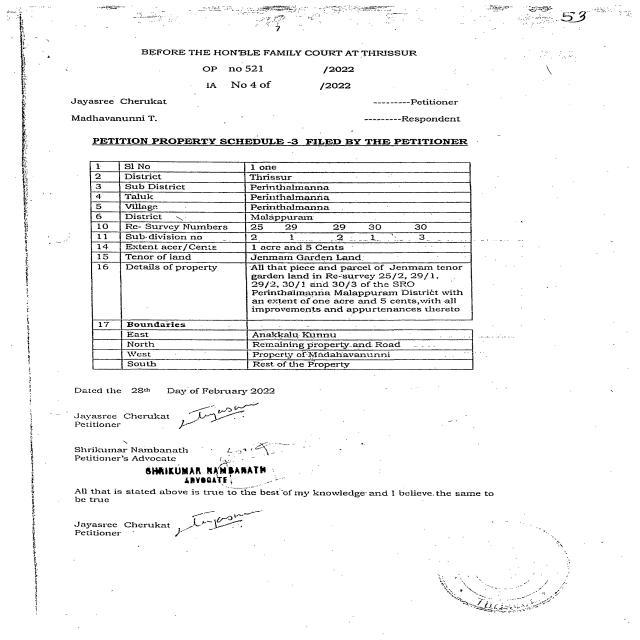page-number: (448, 1, 640, 95)
